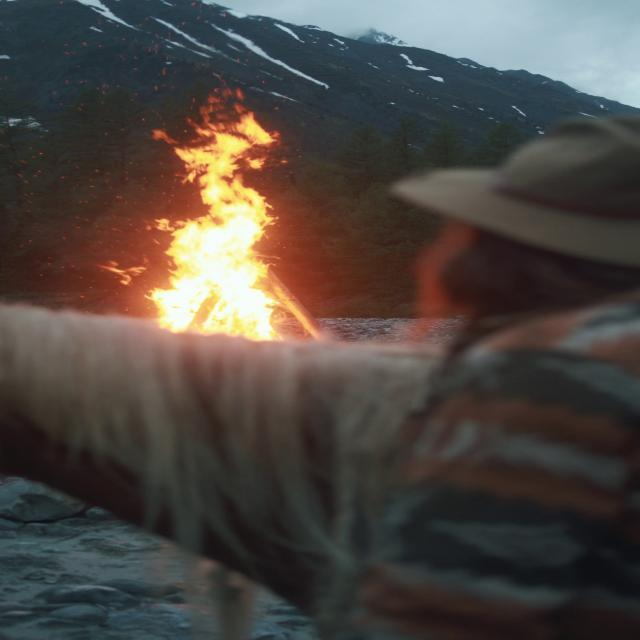Fire: (114, 101, 304, 343)
